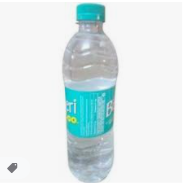Bottle: (63, 3, 116, 183)
